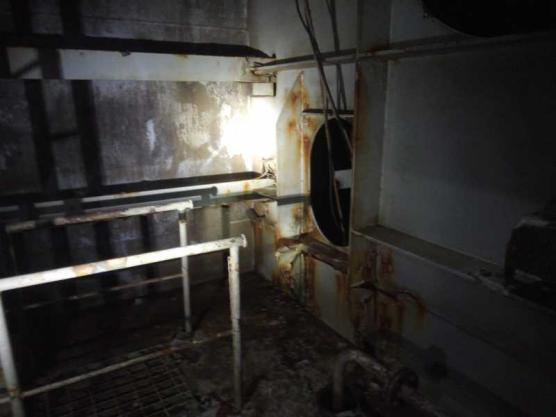corrosion: (351, 248, 401, 335), (302, 220, 325, 296), (248, 234, 283, 267), (298, 126, 321, 167), (285, 80, 312, 105), (285, 116, 307, 136), (281, 209, 309, 223)
